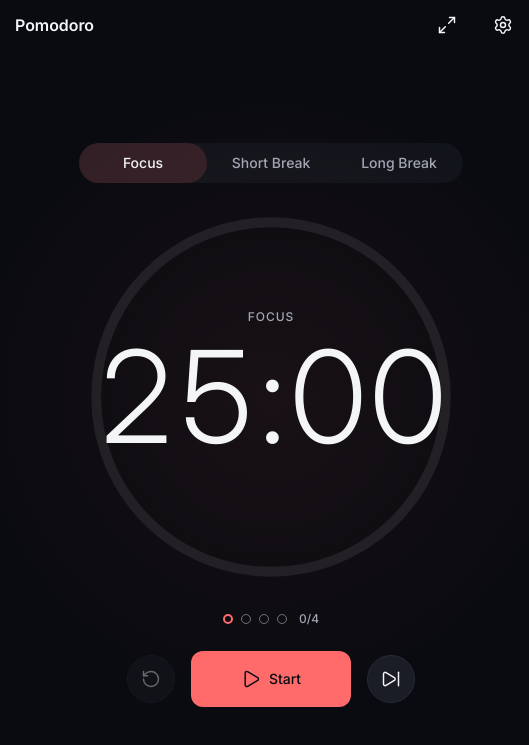
it: Start and notification permission (POMO-E5, POMO-AC15) › does not ask when permission is granted, and Start still works
The image size is (529, 745).
What coordinates should you click on to do the following:
click the button "Start"
I would click on:
 (271, 679)
Its box is 191,651 -> 351,707.
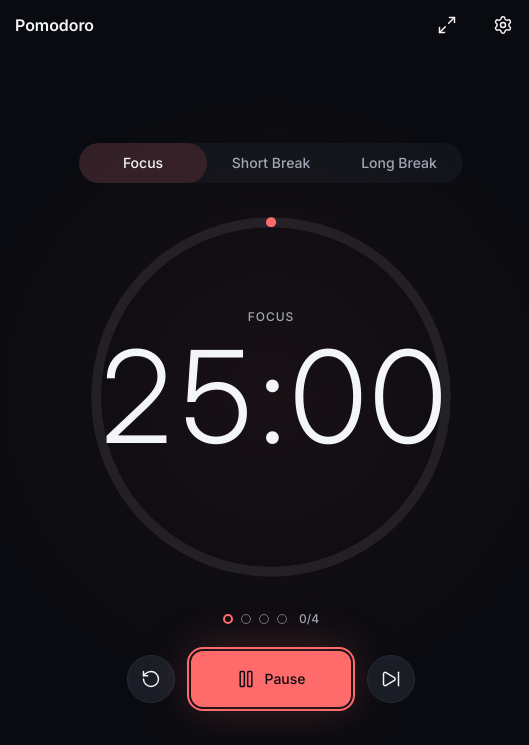
Expected: the button "Pause" is shown, 191,651 -> 351,707
